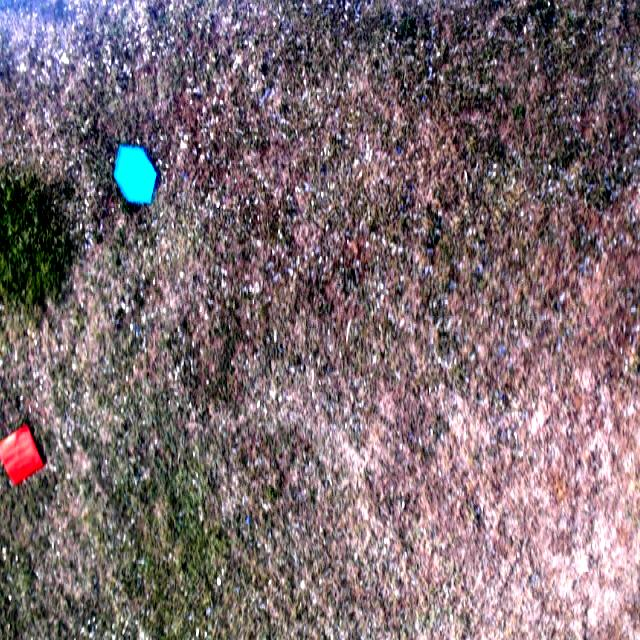blue_hexagon: (109, 142, 162, 206)
red_square: (0, 423, 44, 487)
